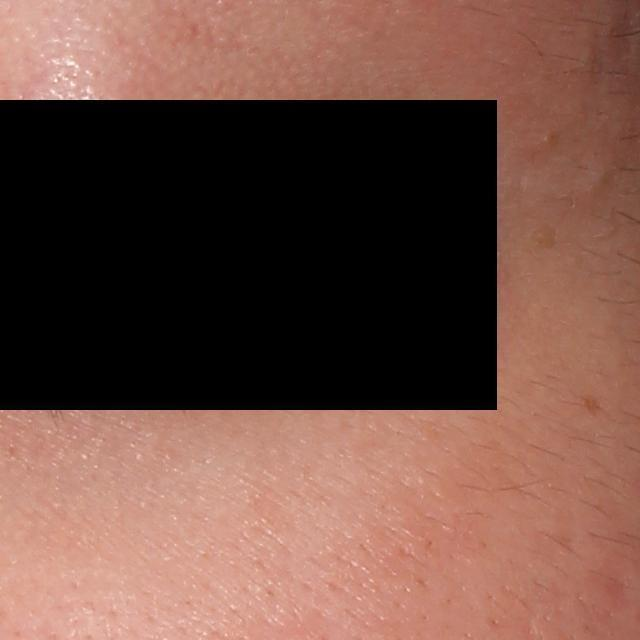comedo: (581, 167, 609, 194)
melasma: (580, 392, 603, 418)
